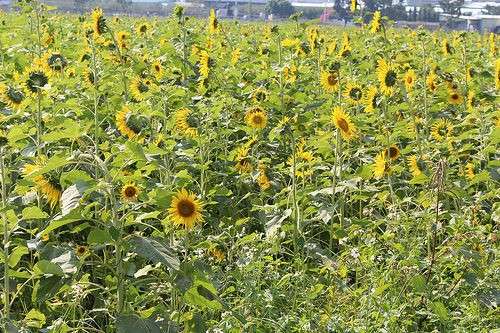flower: (167, 188, 207, 232), (330, 104, 356, 141), (246, 108, 267, 132), (119, 180, 140, 203)
